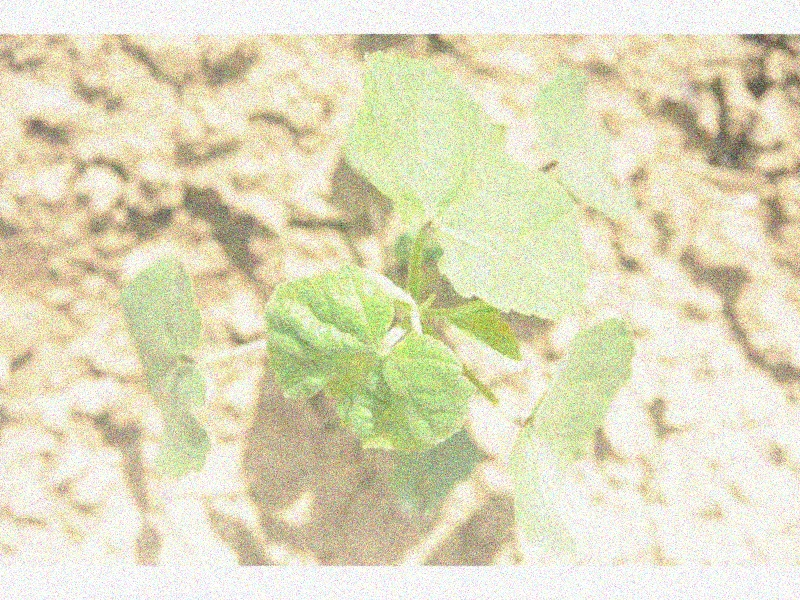velvet: (128, 50, 633, 552)
